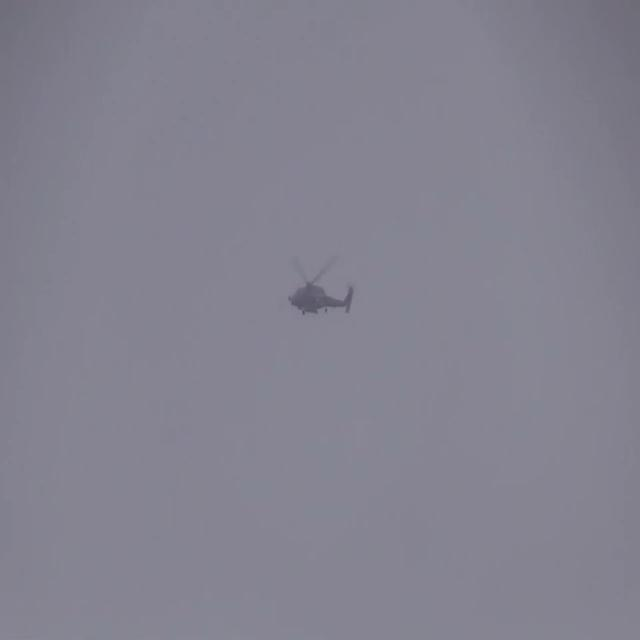Helicopter: (277, 248, 361, 339)
